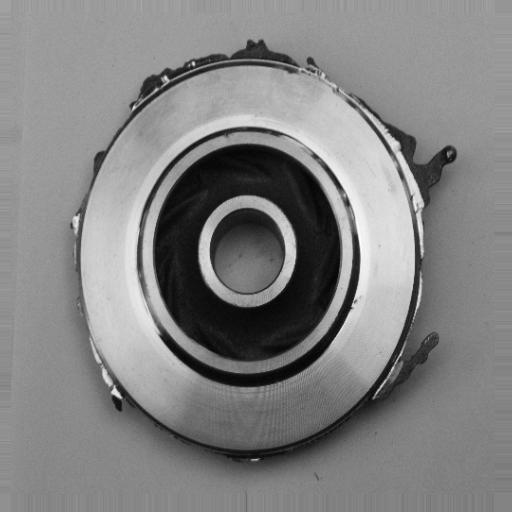casting_with_burr: (63, 34, 460, 468)
scratch: (128, 252, 170, 346)
